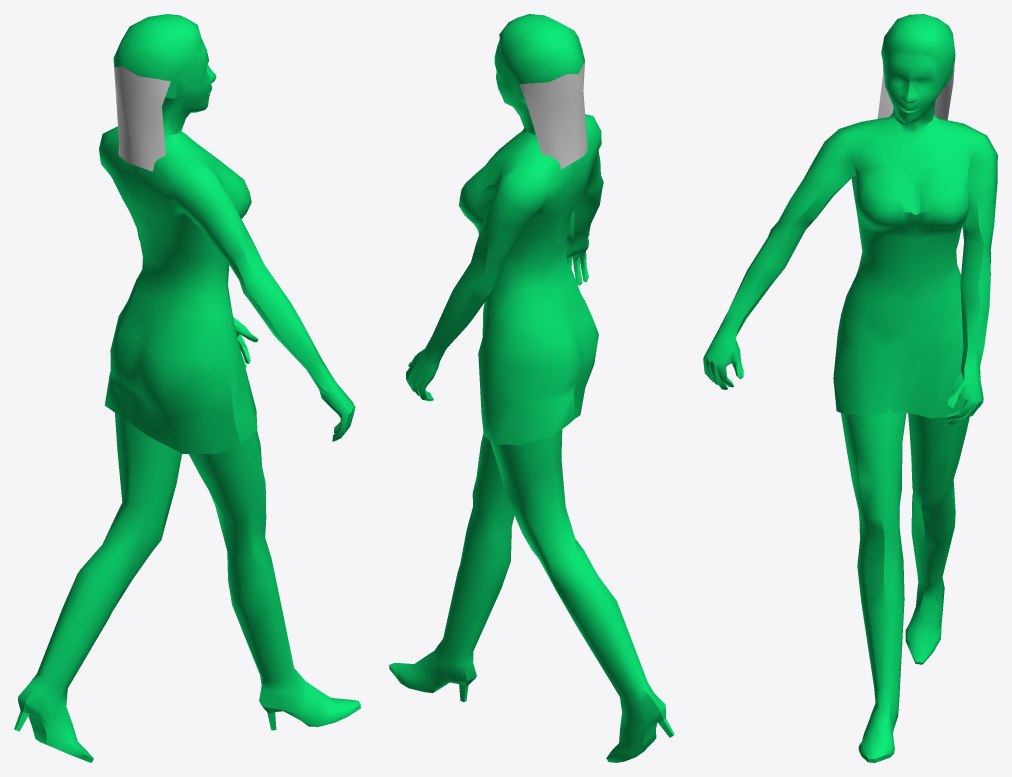
Rendered from SM_Woman_Skirt_Stand_Walking.glb.
The picture shows the model from 3 angles, left to right: view 1: azimuth 30°, elevation 25°; view 2: azimuth 150°, elevation 25°; view 3: azimuth 270°, elevation 25°; orthographic projection. The views are drawn at different scales.
Visible parts, largest first — view 1: SM_Woman_Skirt_Stand_Walking; view 2: SM_Woman_Skirt_Stand_Walking; view 3: SM_Woman_Skirt_Stand_Walking.
Boxes of the visible parts, left/top/right/bottom form: SM_Woman_Skirt_Stand_Walking: left=14, top=14, right=360, bottom=762; SM_Woman_Skirt_Stand_Walking: left=389, top=14, right=674, bottom=762; SM_Woman_Skirt_Stand_Walking: left=703, top=14, right=997, bottom=762.
Size of the model in its own units: 0.7748 by 1.71 by 0.6711.
